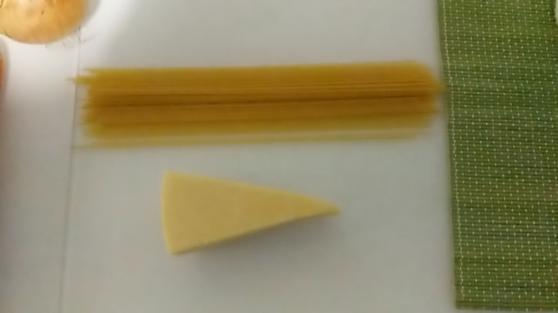cheese: (143, 163, 354, 259)
spaghetti: (65, 55, 474, 157)
